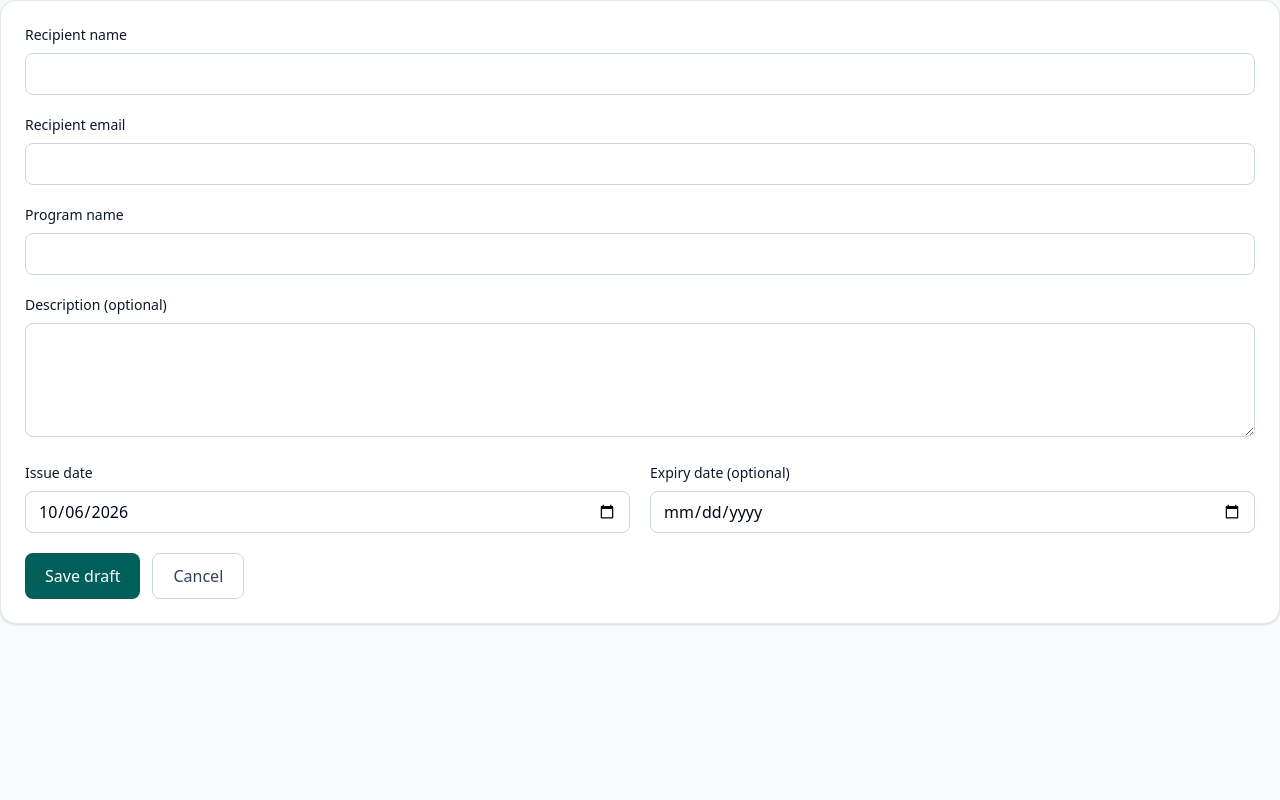
it: draft certificate form › associates validation errors with fields and blocks an invalid expiry
This screenshot has width=1280, height=800.
Click the button "Save draft": (83, 576) [25, 553, 140, 599]
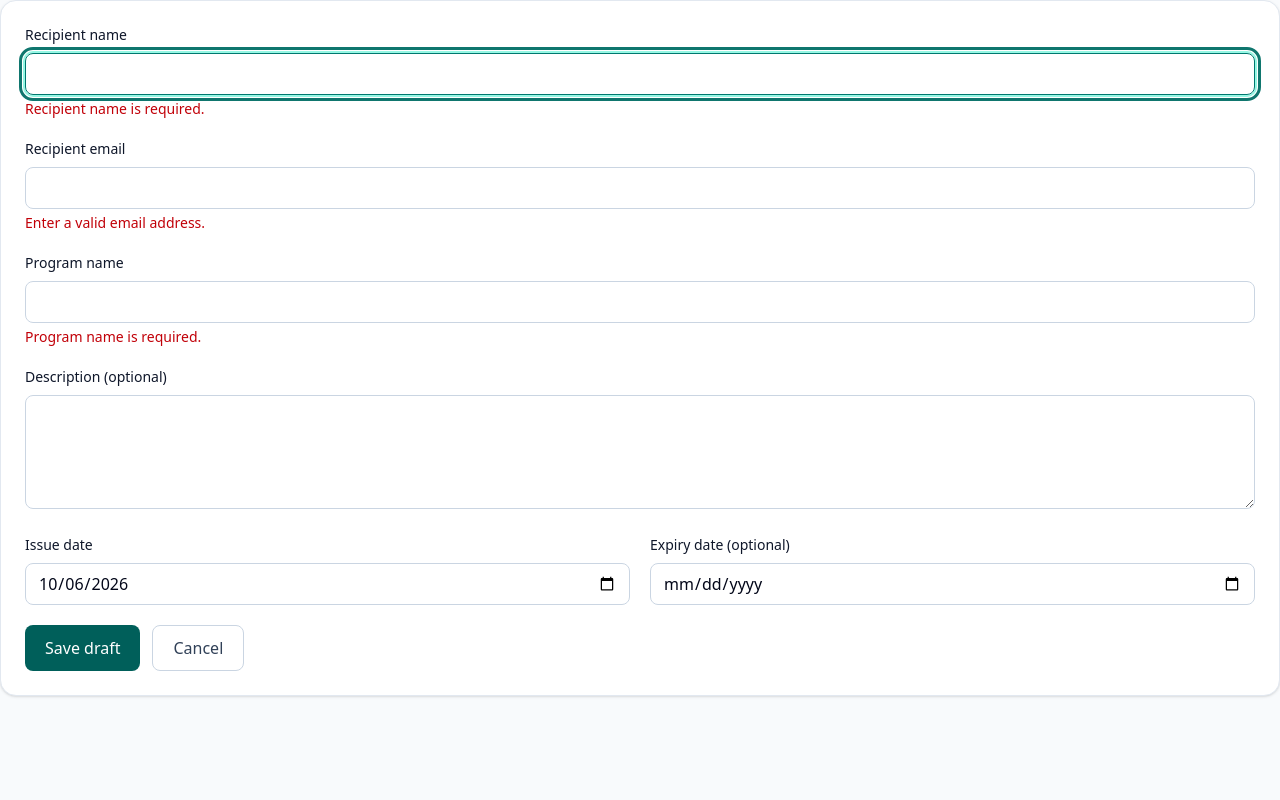
Now the text "Recipient name is required." is shown, box [25, 99, 204, 118]
